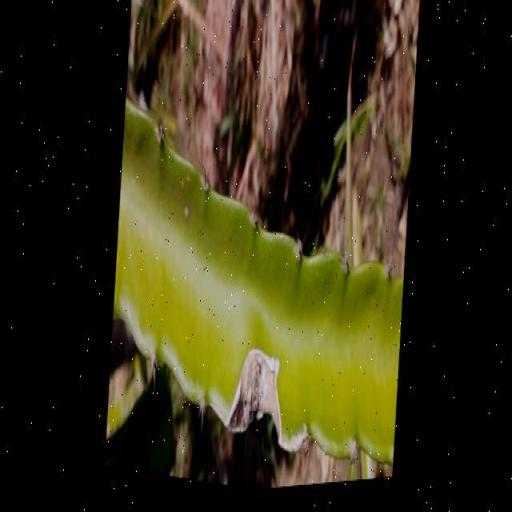stemcanker: (179, 201, 193, 224), (178, 173, 192, 195)
